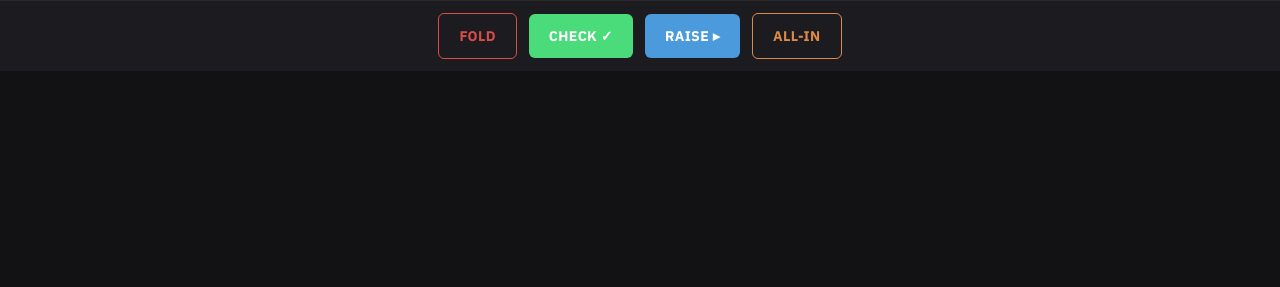
Scenario: HeroDock › preset chip '1/2 Pot' sets slider to half pot
Note: Open raise controls
Click the button with aria-label "open raise slider": click(693, 36) top-left (645, 14), bottom-right (740, 58)
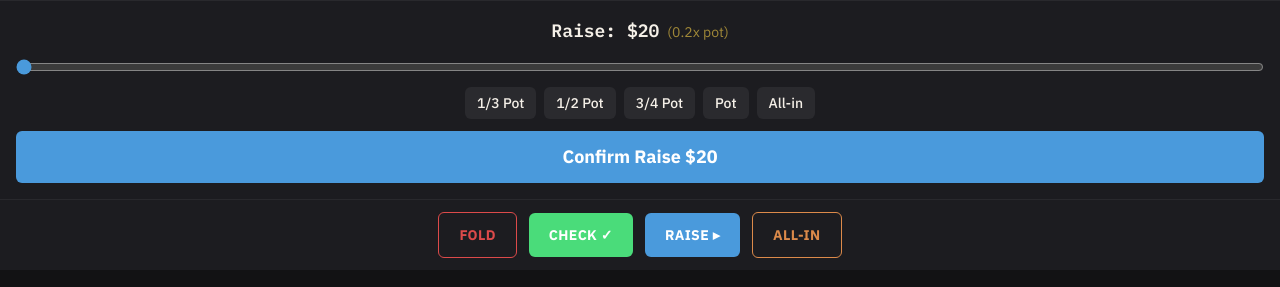
Note: Click 1/2 Pot preset
Click the button with aria-label "set raise to 1/2 pot": click(580, 103) top-left (544, 87), bottom-right (616, 119)
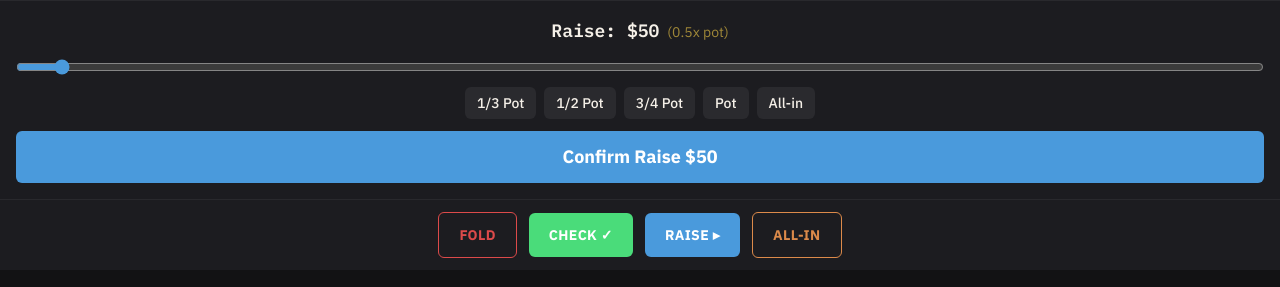
expect the slider named "raise amount slider" holds "50": met, box top-left (16, 59), bottom-right (1264, 75)
